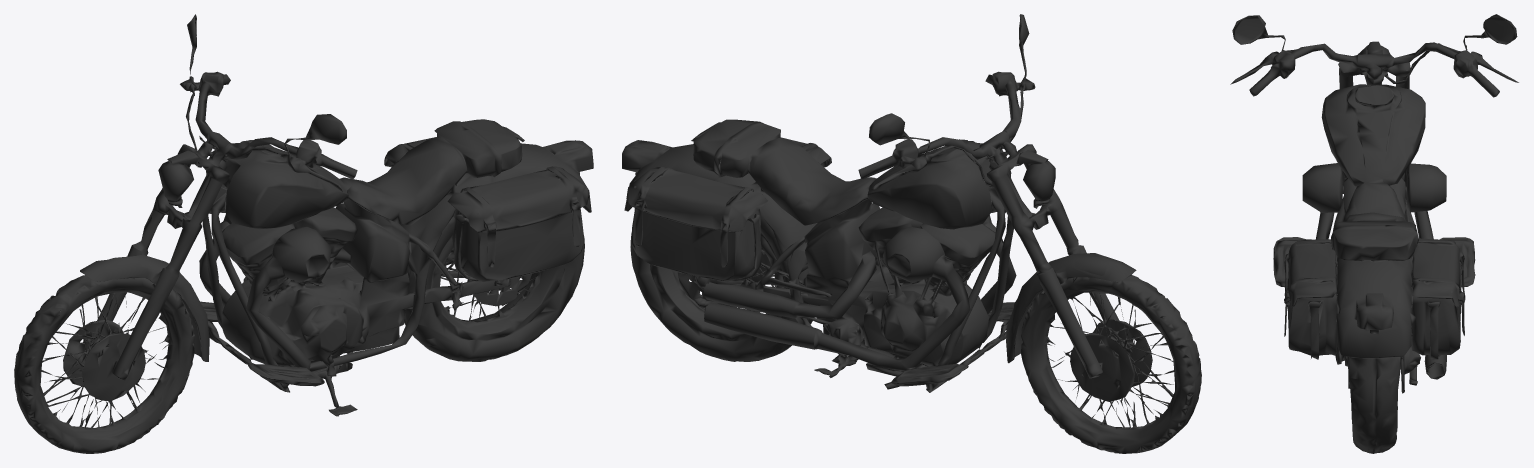
File: car_motorcycle_light_q0.glb
3 views of the same model, side by side, from view 1: azimuth 30°, elevation 25°; view 2: azimuth 150°, elevation 25°; view 3: azimuth 270°, elevation 25° (orthographic). The views are drawn at different scales.
Size of the model in its own units: 2.58 by 1.5 by 1.21.
Materials: 1 (1 with a texture image).
